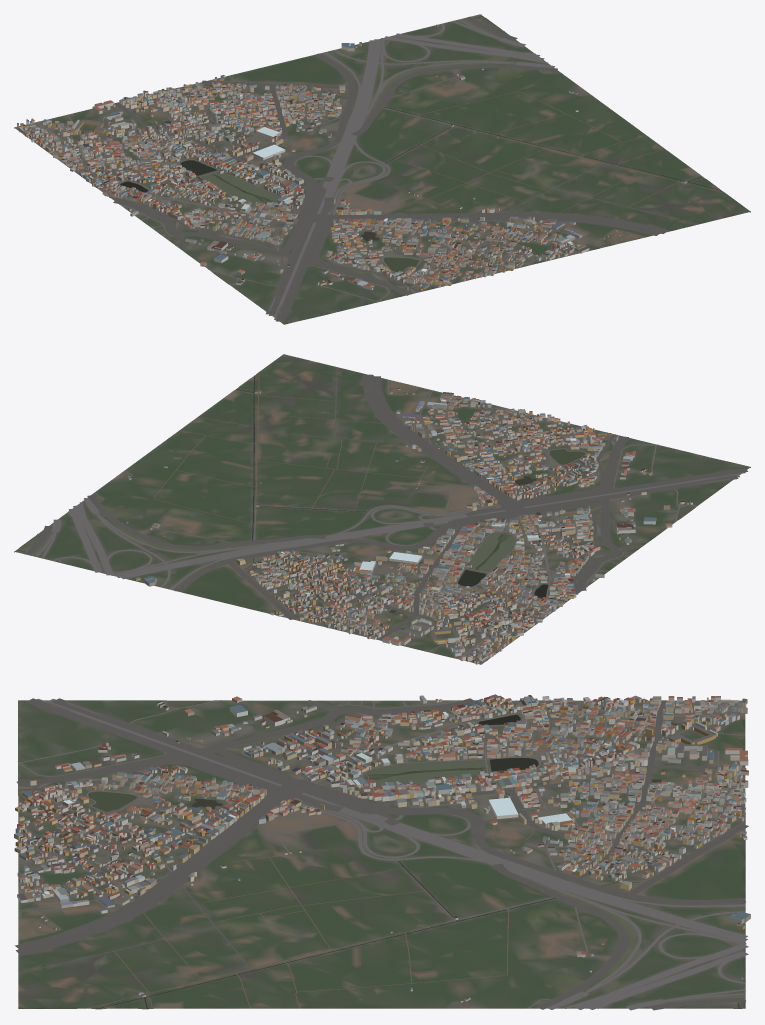
The picture shows the model from 3 angles, top to bottom: view 1: azimuth 30°, elevation 25°; view 2: azimuth 150°, elevation 25°; view 3: azimuth 270°, elevation 25°; orthographic projection. The views are drawn at different scales.
Visible parts, largest first — view 1: ground, buildings, roads, water; view 2: ground, buildings, roads, water; view 3: ground, buildings, roads, water.
Boxes of the visible parts, x1=… form: ground: x1=14, y1=14, x2=750, y2=324; buildings: x1=17, y1=24, x2=687, y2=290; roads: x1=15, y1=16, x2=725, y2=321; water: x1=120, y1=16, x2=721, y2=283; ground: x1=14, y1=354, x2=750, y2=664; buildings: x1=59, y1=388, x2=692, y2=664; roads: x1=23, y1=367, x2=747, y2=664; water: x1=17, y1=375, x2=694, y2=613; ground: x1=18, y1=700, x2=745, y2=1009; buildings: x1=14, y1=694, x2=750, y2=1002; roads: x1=15, y1=698, x2=748, y2=1010; water: x1=88, y1=700, x2=739, y2=1008.
Bounding box in the file's own units: 1419 × 21.05 × 1420.
